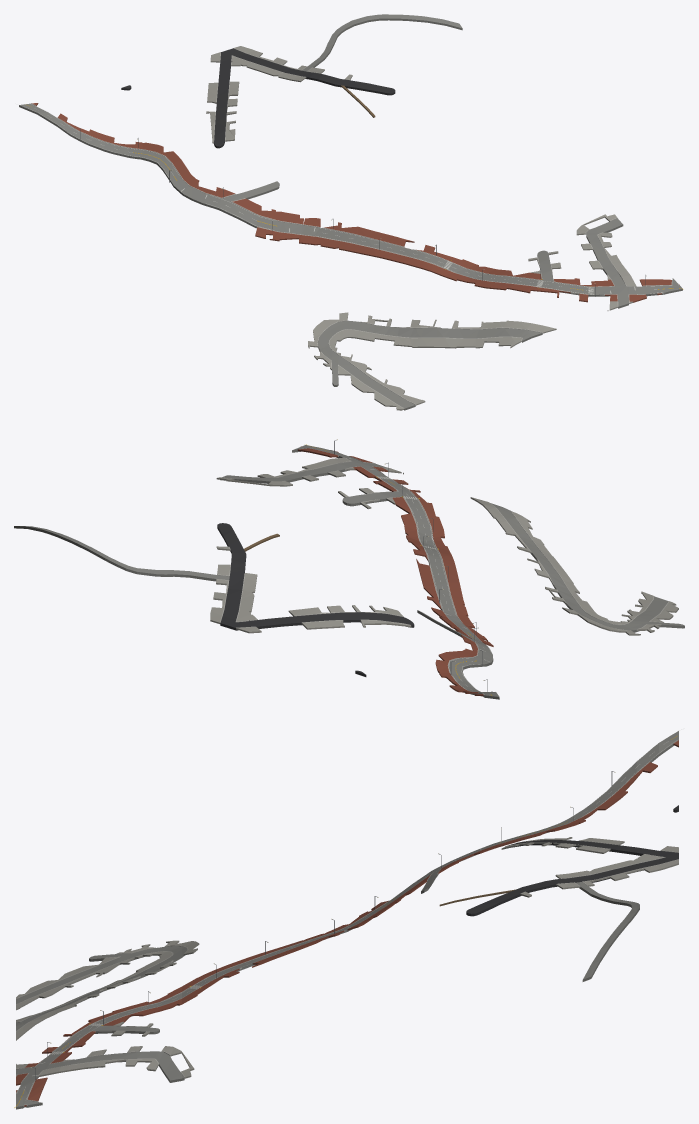
Rendered from 17-109446-59481.bbc7966f.glb.
The picture shows the model from 3 angles, top to bottom: view 1: azimuth 30°, elevation 25°; view 2: azimuth 150°, elevation 25°; view 3: azimuth 270°, elevation 25°; orthographic projection. The views are drawn at different scales.
Bounding box in the file's own units: 268 × 105 × 295.
